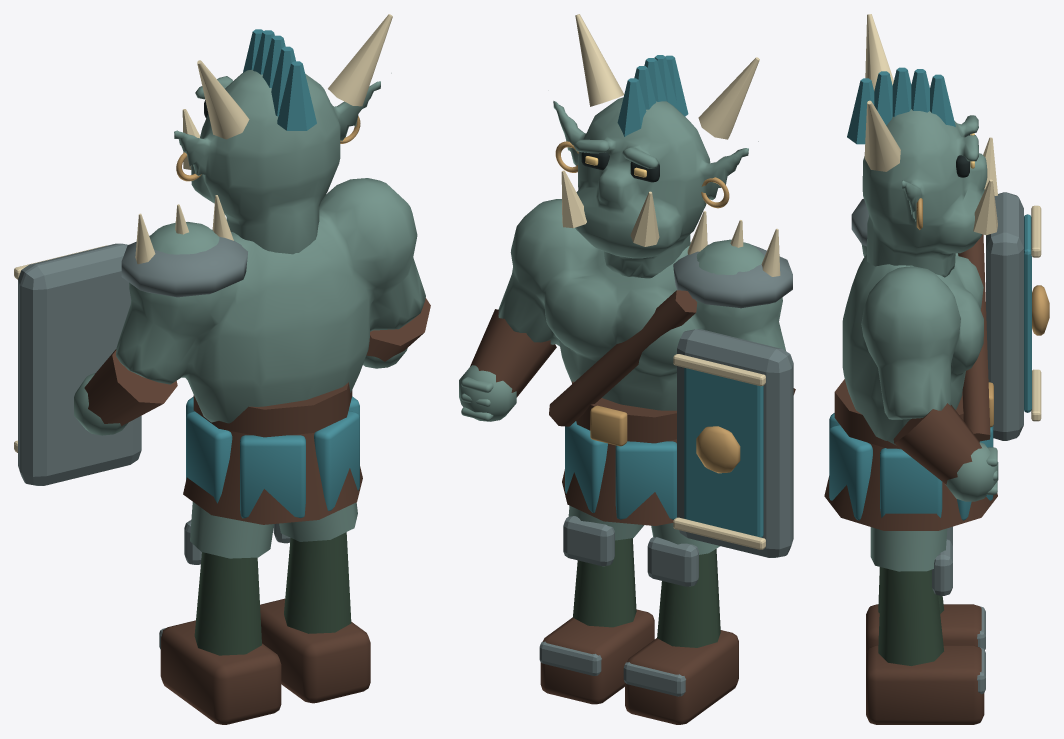
The model's file is host_22.glb.
3 renders of one model, left to right at view 1: azimuth 30°, elevation 25°; view 2: azimuth 150°, elevation 25°; view 3: azimuth 270°, elevation 25°, orthographic. The views are drawn at different scales.
Parts seen in each view (by area): view 1: mesh_Skin.002, mesh_Iron.002, mesh_Cloth.021, mesh_Leather.002, mesh_Leather.021, mesh_Leather.001, mesh_Bone.021, mesh_Shadow.021, mesh_Shadow.001, mesh_Skin.021, mesh_Skin.001; view 2: mesh_Skin.002, mesh_Cloth.021, mesh_Iron.002, mesh_Leather.002, mesh_Bone.021, mesh_Leather.021, mesh_Leather.001, mesh_Shadow.021, mesh_Shadow.001, mesh_Copper.021, mesh_Iron.021, mesh_Iron.001 (+3 smaller); view 3: mesh_Skin.002, mesh_Cloth.021, mesh_Leather.002, mesh_Iron.002, mesh_Leather.001, mesh_Shadow.001, mesh_Bone.021, mesh_Skin.001, mesh_Leather.021, mesh_Iron.001, mesh_Copper.021.
Part boxes in pixels (x1=…): mesh_Skin.002: x1=74, y1=69, x2=425, y2=435; mesh_Iron.002: x1=18, y1=229, x2=247, y2=485; mesh_Cloth.021: x1=186, y1=29, x2=359, y2=518; mesh_Leather.002: x1=84, y1=298, x2=430, y2=524; mesh_Leather.021: x1=160, y1=620, x2=281, y2=724; mesh_Leather.001: x1=260, y1=598, x2=370, y2=703; mesh_Bone.021: x1=14, y1=14, x2=392, y2=452; mesh_Shadow.021: x1=194, y1=552, x2=261, y2=655; mesh_Shadow.001: x1=284, y1=532, x2=351, y2=633; mesh_Skin.021: x1=190, y1=502, x2=273, y2=558; mesh_Skin.001: x1=279, y1=502, x2=357, y2=541; mesh_Skin.002: x1=459, y1=97, x2=785, y2=421; mesh_Cloth.021: x1=565, y1=55, x2=763, y2=537; mesh_Iron.002: x1=673, y1=244, x2=793, y2=557; mesh_Leather.002: x1=470, y1=290, x2=795, y2=525; mesh_Bone.021: x1=561, y1=14, x2=780, y2=549; mesh_Leather.021: x1=625, y1=630, x2=738, y2=724; mesh_Leather.001: x1=540, y1=609, x2=654, y2=704; mesh_Shadow.021: x1=657, y1=549, x2=720, y2=647; mesh_Shadow.001: x1=573, y1=538, x2=636, y2=627; mesh_Copper.021: x1=555, y1=141, x2=740, y2=473; mesh_Iron.021: x1=623, y1=537, x2=698, y2=696; mesh_Iron.001: x1=539, y1=516, x2=614, y2=675; mesh_Skin.002: x1=842, y1=109, x2=998, y2=501; mesh_Cloth.021: x1=829, y1=67, x2=1031, y2=520; mesh_Leather.002: x1=824, y1=234, x2=997, y2=530; mesh_Iron.002: x1=851, y1=192, x2=1023, y2=440; mesh_Leather.001: x1=866, y1=645, x2=984, y2=724; mesh_Shadow.001: x1=878, y1=567, x2=943, y2=665; mesh_Bone.021: x1=864, y1=14, x2=1041, y2=421; mesh_Skin.001: x1=870, y1=527, x2=947, y2=571; mesh_Leather.021: x1=866, y1=604, x2=981, y2=654; mesh_Iron.001: x1=932, y1=539, x2=985, y2=694; mesh_Copper.021: x1=916, y1=198, x2=1049, y2=427.
Bounding box in the file's own units: 1.11 × 1.96 × 0.6289.
